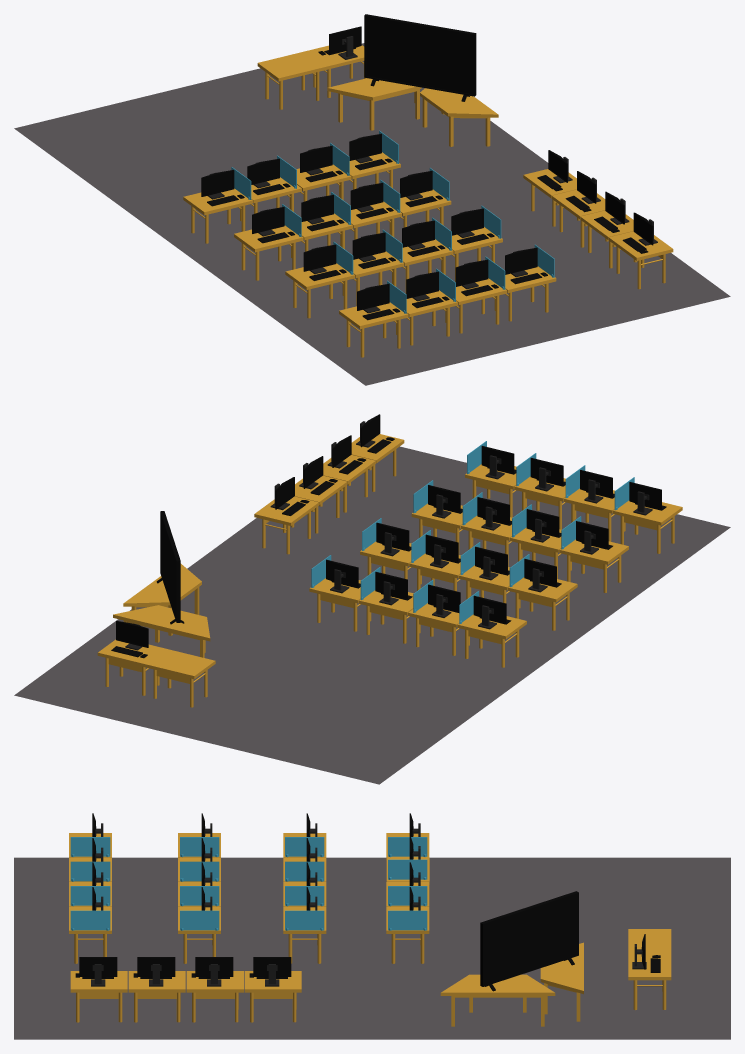
Rendered from ModelPowerBIcolors.dae.
3 renders of one model, top to bottom at view 1: azimuth 30°, elevation 25°; view 2: azimuth 150°, elevation 25°; view 3: azimuth 270°, elevation 25°, orthographic.
Visible parts, largest first — view 1: node_8225097f_cfa0_4b1b_bd47_39f58e7db608_mesh0, node_60794074_80ce_42e3_81c3_31ebdcf94f9c_mesh0, node_8d1b888f_2bda_4239_ae67_fdb92447e112_mesh0, node_5c1d1ca9_2917_4784_94e9_1b80d2f45ad4_mesh0, node_041d45f6_0440_42ed_90c2_34ed89d22bcc_mesh0, node_f39a3ac1_cc4e_46d8_8b5c_5c9b10c03507_mesh0, node_2c50c523_37e7_4069_9ca5_8d2b2c5d4523_mesh0, node_3336695d_f809_4ae5_8e46_5b206c136a8e_mesh0, node_f4471440_5af1_4f2c_893e_5771297f4317_mesh0, node_4dd905fa_70e5_4991_abee_650d0f7d88f6_mesh0, node_81cc1bcd_f9dc_4f9a_9829_0b0566a3c9f6_mesh0, node_ee9fec97_0eed_44ea_9699_2224d60c2521_mesh0 (+30 smaller); view 2: node_8225097f_cfa0_4b1b_bd47_39f58e7db608_mesh0, node_5c1d1ca9_2917_4784_94e9_1b80d2f45ad4_mesh0, node_041d45f6_0440_42ed_90c2_34ed89d22bcc_mesh0, node_60794074_80ce_42e3_81c3_31ebdcf94f9c_mesh0, node_8d1b888f_2bda_4239_ae67_fdb92447e112_mesh0, node_f4471440_5af1_4f2c_893e_5771297f4317_mesh0, node_3336695d_f809_4ae5_8e46_5b206c136a8e_mesh0, node_2c50c523_37e7_4069_9ca5_8d2b2c5d4523_mesh0, node_f39a3ac1_cc4e_46d8_8b5c_5c9b10c03507_mesh0, node_2dcd1e8f_bff2_4801_925e_727221ee6efa_mesh0, node_6d7d2f7a_8d2e_49b9_8356_0532763813ca_mesh0, node_f210b02a_48e1_4287_af16_9ea188b7ed18_mesh0 (+21 smaller); view 3: node_8225097f_cfa0_4b1b_bd47_39f58e7db608_mesh0, node_60794074_80ce_42e3_81c3_31ebdcf94f9c_mesh0, node_8d1b888f_2bda_4239_ae67_fdb92447e112_mesh0, node_5c1d1ca9_2917_4784_94e9_1b80d2f45ad4_mesh0, node_6d7d2f7a_8d2e_49b9_8356_0532763813ca_mesh0, node_d224c2b5_9b59_4594_a6d5_410e770ed24b_mesh0, node_4dd905fa_70e5_4991_abee_650d0f7d88f6_mesh0, node_7c9ca9d1_4d7e_4d88_b6b2_92258de6c879_mesh0, node_2dcd1e8f_bff2_4801_925e_727221ee6efa_mesh0, node_041d45f6_0440_42ed_90c2_34ed89d22bcc_mesh0, node_f577dac2_c38f_4f0e_81b7_2bfb863ffde1_mesh0, node_38f7790d_3d19_4d1d_845b_64993eb259a2_mesh0 (+22 smaller).
Boxes of the visible parts, box(x1,y1,x2,y2) form: node_8225097f_cfa0_4b1b_bd47_39f58e7db608_mesh0: box(14, 43, 730, 385); node_60794074_80ce_42e3_81c3_31ebdcf94f9c_mesh0: box(364, 14, 476, 101); node_8d1b888f_2bda_4239_ae67_fdb92447e112_mesh0: box(420, 88, 498, 146); node_5c1d1ca9_2917_4784_94e9_1b80d2f45ad4_mesh0: box(327, 78, 421, 130); node_041d45f6_0440_42ed_90c2_34ed89d22bcc_mesh0: box(257, 51, 327, 109); node_f39a3ac1_cc4e_46d8_8b5c_5c9b10c03507_mesh0: box(234, 225, 303, 280); node_2c50c523_37e7_4069_9ca5_8d2b2c5d4523_mesh0: box(339, 302, 408, 357); node_3336695d_f809_4ae5_8e46_5b206c136a8e_mesh0: box(285, 263, 354, 318); node_f4471440_5af1_4f2c_893e_5771297f4317_mesh0: box(183, 188, 252, 243); node_4dd905fa_70e5_4991_abee_650d0f7d88f6_mesh0: box(608, 231, 673, 289); node_81cc1bcd_f9dc_4f9a_9829_0b0566a3c9f6_mesh0: box(445, 278, 507, 333); node_ee9fec97_0eed_44ea_9699_2224d60c2521_mesh0: box(494, 266, 556, 321); node_8225097f_cfa0_4b1b_bd47_39f58e7db608_mesh0: box(14, 446, 730, 784); node_5c1d1ca9_2917_4784_94e9_1b80d2f45ad4_mesh0: box(113, 605, 210, 657); node_041d45f6_0440_42ed_90c2_34ed89d22bcc_mesh0: box(145, 649, 215, 707); node_60794074_80ce_42e3_81c3_31ebdcf94f9c_mesh0: box(156, 511, 184, 624); node_8d1b888f_2bda_4239_ae67_fdb92447e112_mesh0: box(123, 563, 201, 635); node_f4471440_5af1_4f2c_893e_5771297f4317_mesh0: box(457, 614, 526, 667); node_3336695d_f809_4ae5_8e46_5b206c136a8e_mesh0: box(559, 539, 628, 592); node_2c50c523_37e7_4069_9ca5_8d2b2c5d4523_mesh0: box(613, 500, 682, 553); node_f39a3ac1_cc4e_46d8_8b5c_5c9b10c03507_mesh0: box(508, 577, 577, 630); node_2dcd1e8f_bff2_4801_925e_727221ee6efa_mesh0: box(97, 639, 166, 695); node_6d7d2f7a_8d2e_49b9_8356_0532763813ca_mesh0: box(254, 496, 318, 554); node_f210b02a_48e1_4287_af16_9ea188b7ed18_mesh0: box(358, 590, 420, 643); node_8225097f_cfa0_4b1b_bd47_39f58e7db608_mesh0: box(14, 857, 730, 1039); node_60794074_80ce_42e3_81c3_31ebdcf94f9c_mesh0: box(480, 891, 578, 991); node_8d1b888f_2bda_4239_ae67_fdb92447e112_mesh0: box(440, 974, 555, 1026); node_5c1d1ca9_2917_4784_94e9_1b80d2f45ad4_mesh0: box(540, 942, 583, 1021); node_6d7d2f7a_8d2e_49b9_8356_0532763813ca_mesh0: box(244, 971, 301, 1022); node_d224c2b5_9b59_4594_a6d5_410e770ed24b_mesh0: box(128, 971, 185, 1022); node_4dd905fa_70e5_4991_abee_650d0f7d88f6_mesh0: box(70, 971, 127, 1022); node_7c9ca9d1_4d7e_4d88_b6b2_92258de6c879_mesh0: box(186, 971, 243, 1022); node_2dcd1e8f_bff2_4801_925e_727221ee6efa_mesh0: box(628, 953, 671, 1010); node_041d45f6_0440_42ed_90c2_34ed89d22bcc_mesh0: box(628, 929, 671, 952); node_f577dac2_c38f_4f0e_81b7_2bfb863ffde1_mesh0: box(70, 910, 110, 930); node_38f7790d_3d19_4d1d_845b_64993eb259a2_mesh0: box(388, 910, 427, 930).
Bounding box in the file's own units: 6 × 1.59 × 10.
